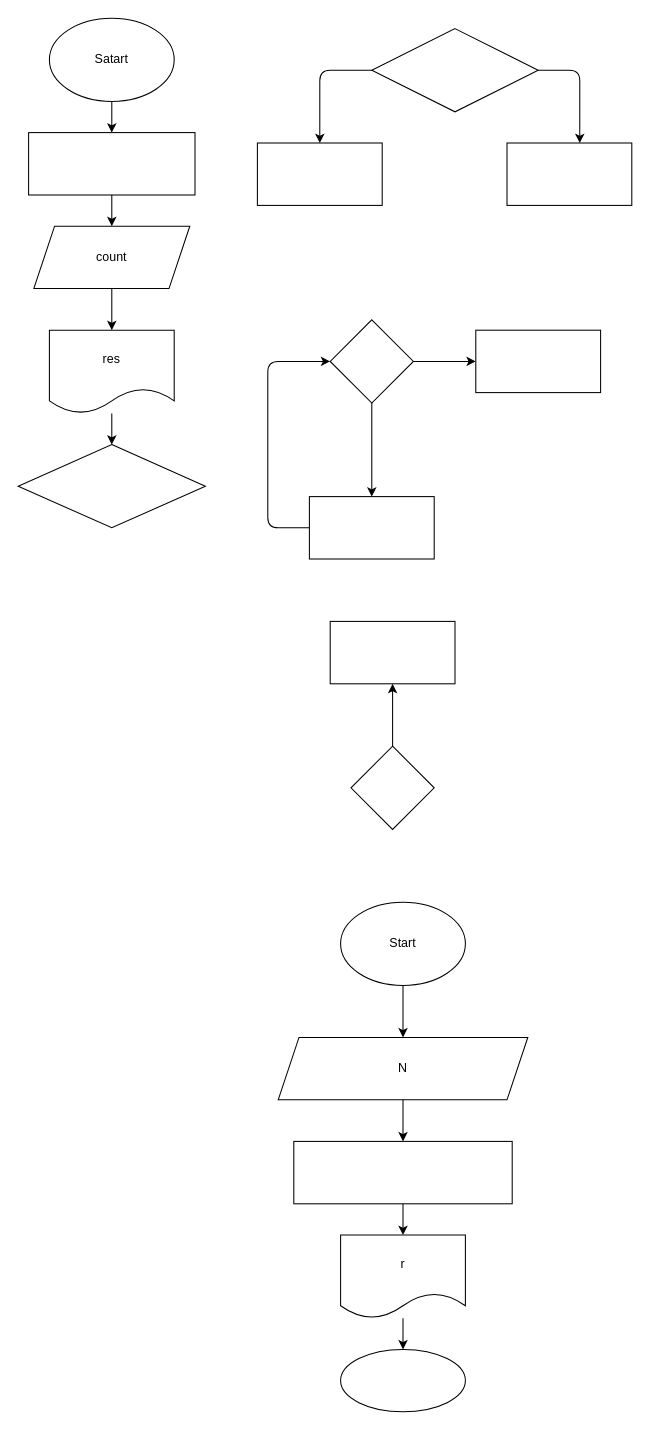
Image size: 650x1430. Some labels were removed from this diagram. The shapes that lost their labels are listed below. From the top down, each one's centre as x and y in pixels, then its label:
At point 111,163: "count=0".
At point 402,1172: "r = random(1,N)".
At point 402,1380: "End".
